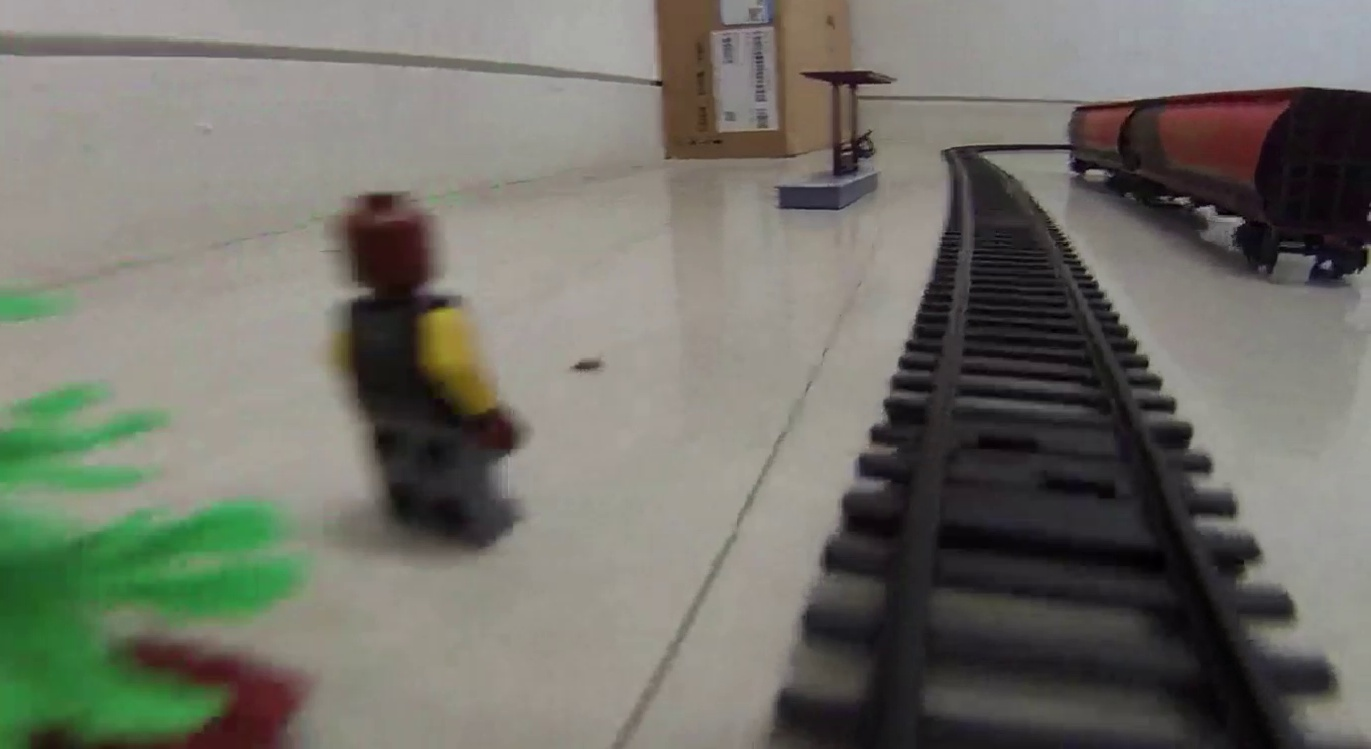people: (322, 193, 526, 553)
